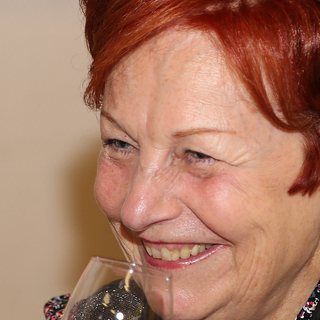eye: (174, 139, 237, 172), (101, 127, 143, 163)
